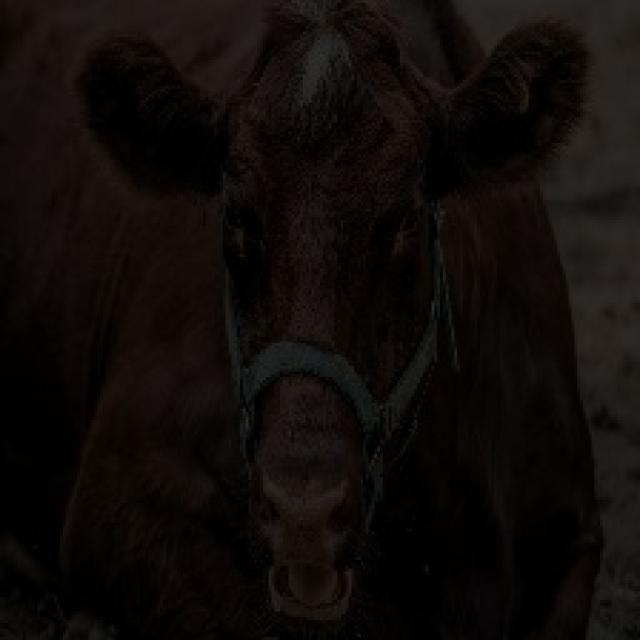bear: (113, 11, 639, 624)
